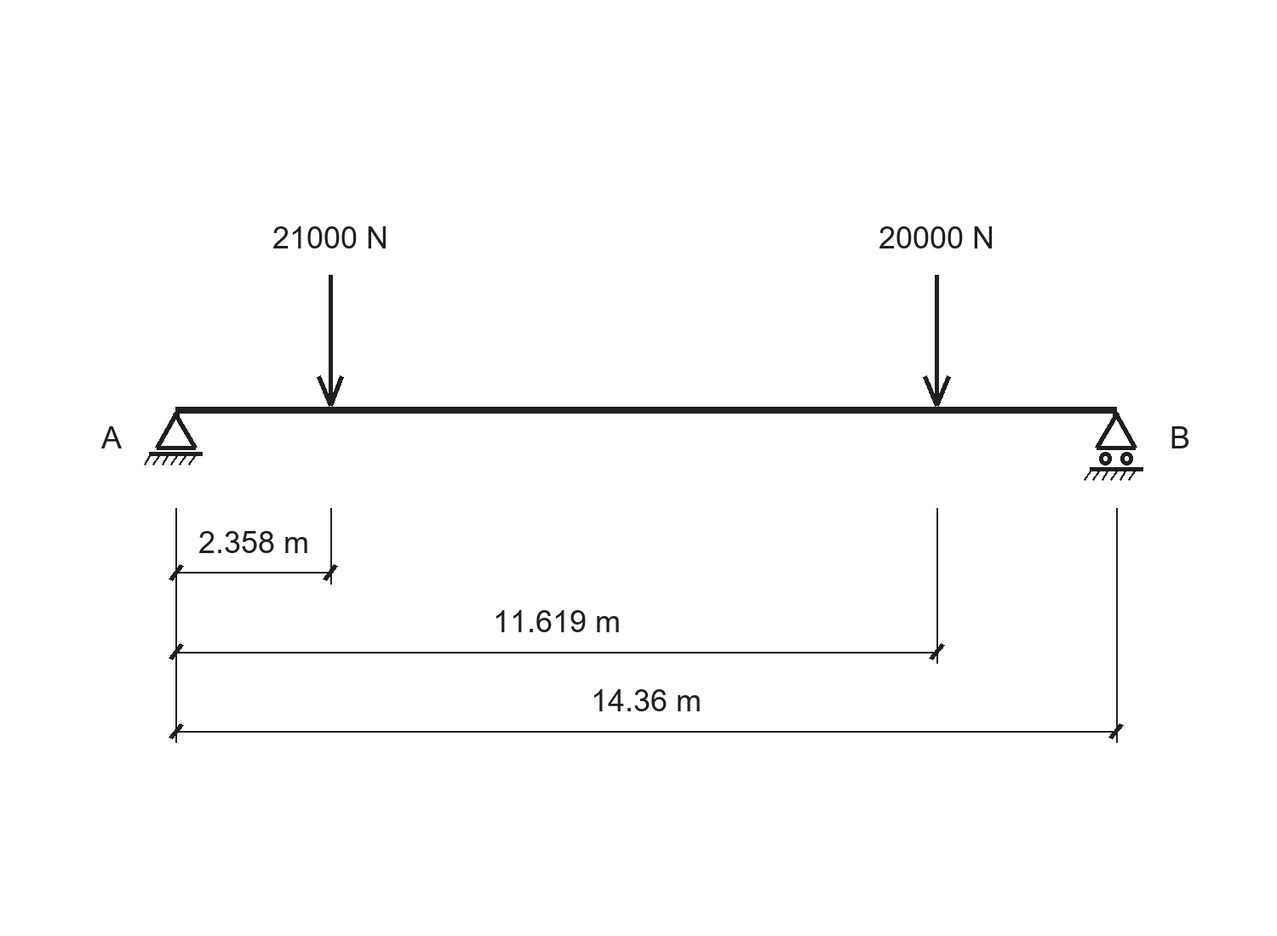pin_support: (144, 412, 203, 465)
point_load: (923, 275, 951, 407), (317, 275, 344, 407)
roller_support: (1084, 412, 1143, 481)
